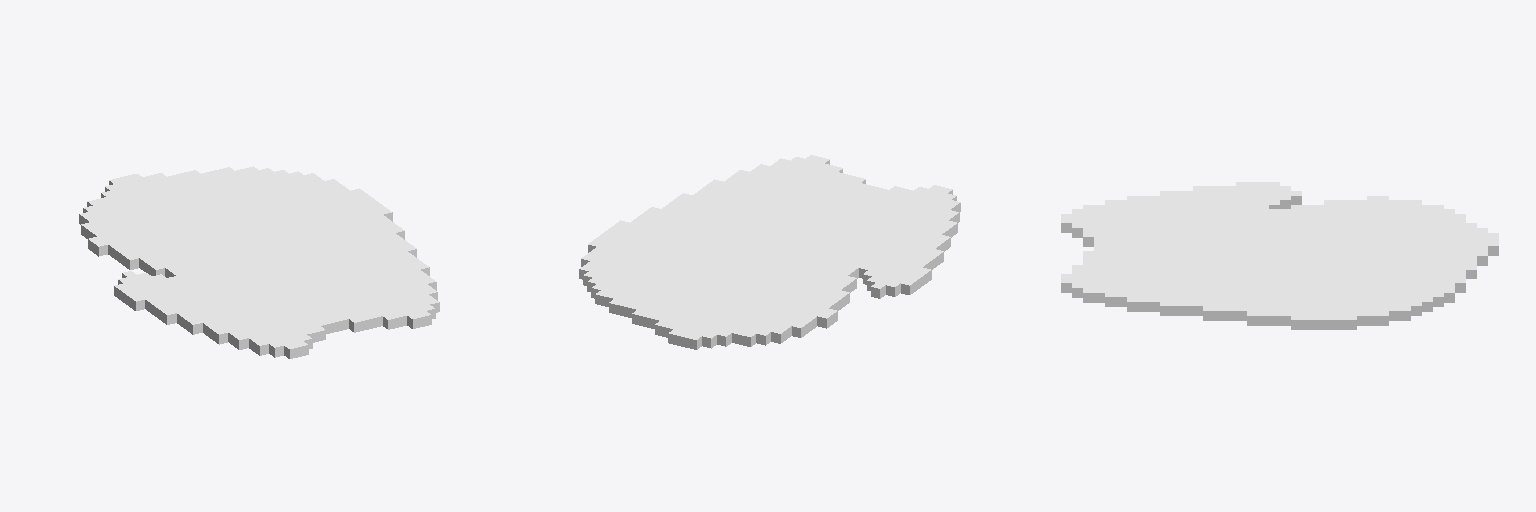
The model's file is Swamp.obj.
3 renders of one model, left to right at view 1: azimuth 30°, elevation 25°; view 2: azimuth 150°, elevation 25°; view 3: azimuth 270°, elevation 25°, orthographic.
Parts seen in each view (by area): view 1: object 1; view 2: object 1; view 3: object 1.
Boxes of the visible parts, box(x1,y1,x2,y2) form: object 1: box(79, 166, 439, 358); object 1: box(579, 155, 960, 349); object 1: box(1061, 182, 1498, 329).
Size of the model in its own units: 3 by 0.1 by 4.